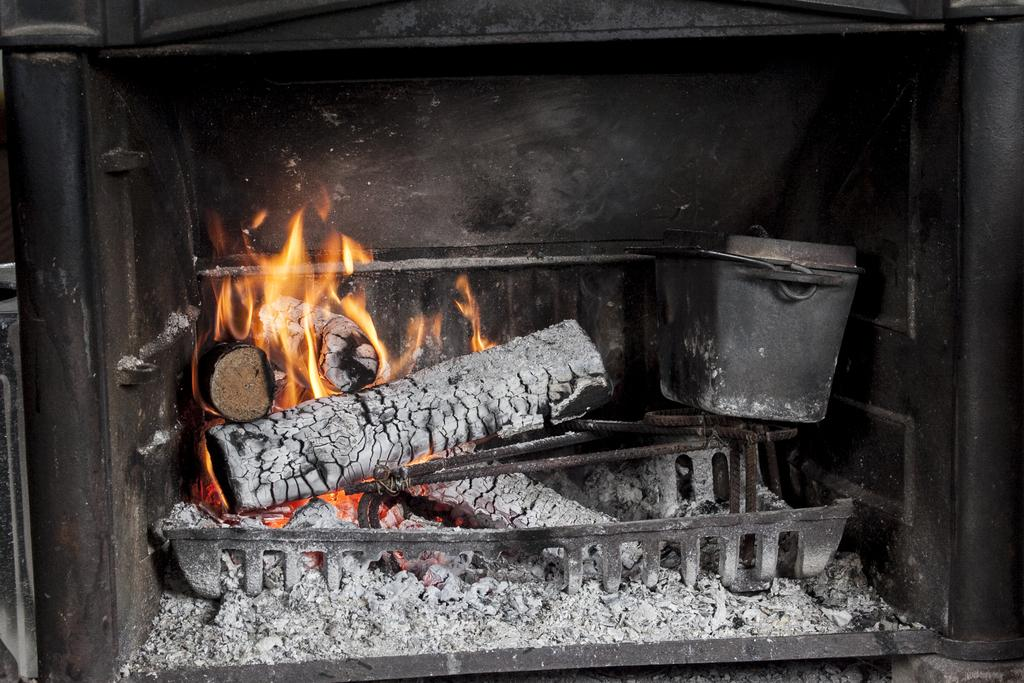Fire: (182, 141, 487, 408)
